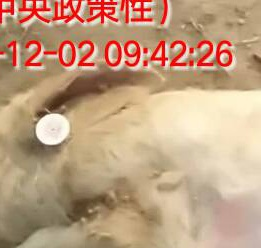text: (24, 101, 81, 155)
